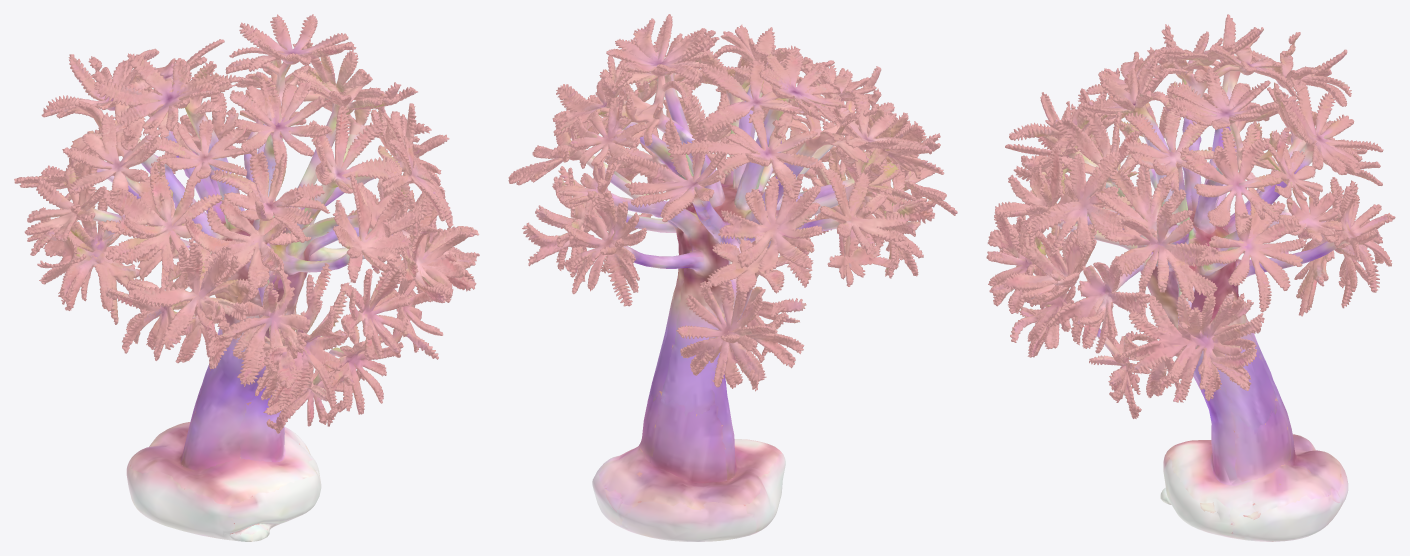
File: xenia.glb
3 renders of one model, left to right at view 1: azimuth 30°, elevation 25°; view 2: azimuth 150°, elevation 25°; view 3: azimuth 270°, elevation 25°, orthographic. The views are drawn at different scales.
Bounding box in the file's own units: 1.7 × 1.9 × 1.59.
1 material, 1 textured.
